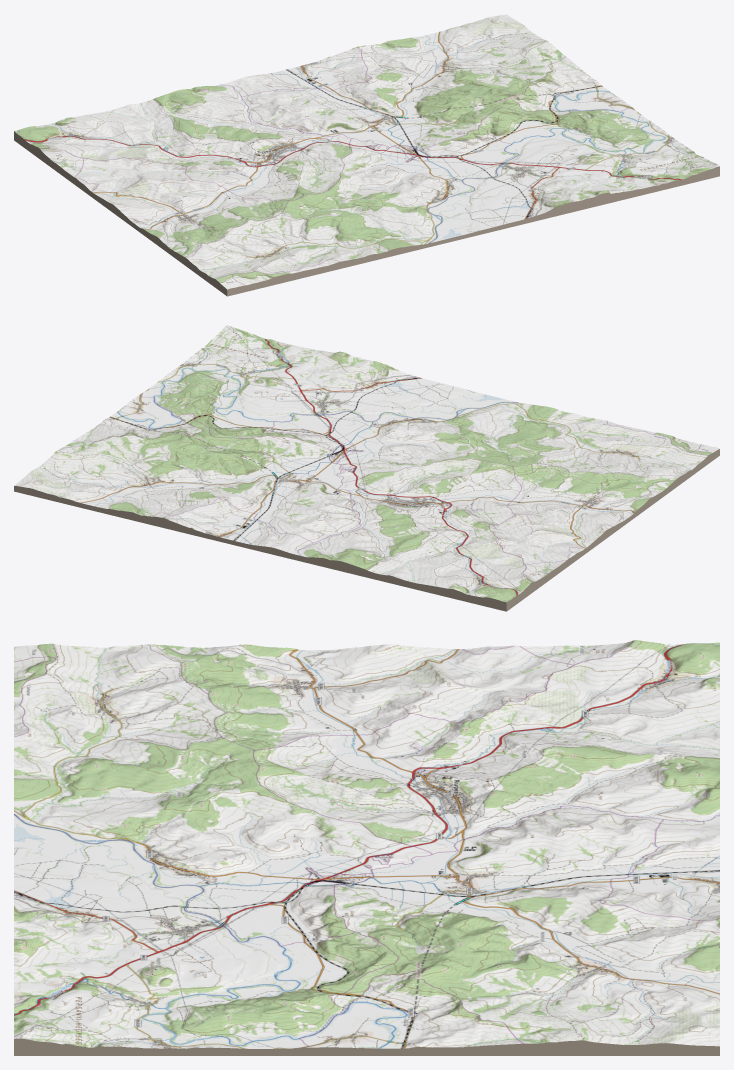
3 views of the same model, one above another, from view 1: azimuth 30°, elevation 25°; view 2: azimuth 150°, elevation 25°; view 3: azimuth 270°, elevation 25° (orthographic). The views are drawn at different scales.
Visible parts, largest first — view 1: BV50-B3 Rupea; view 2: BV50-B3 Rupea; view 3: BV50-B3 Rupea.
Boxes of the visible parts, x1,y1,x2,y2 form: BV50-B3 Rupea: (14, 14, 719, 296); BV50-B3 Rupea: (14, 325, 719, 611); BV50-B3 Rupea: (14, 640, 719, 1055).
Bounding box in the file's own units: 20000 × 464 × 15000.
6 materials, 1 textured.
